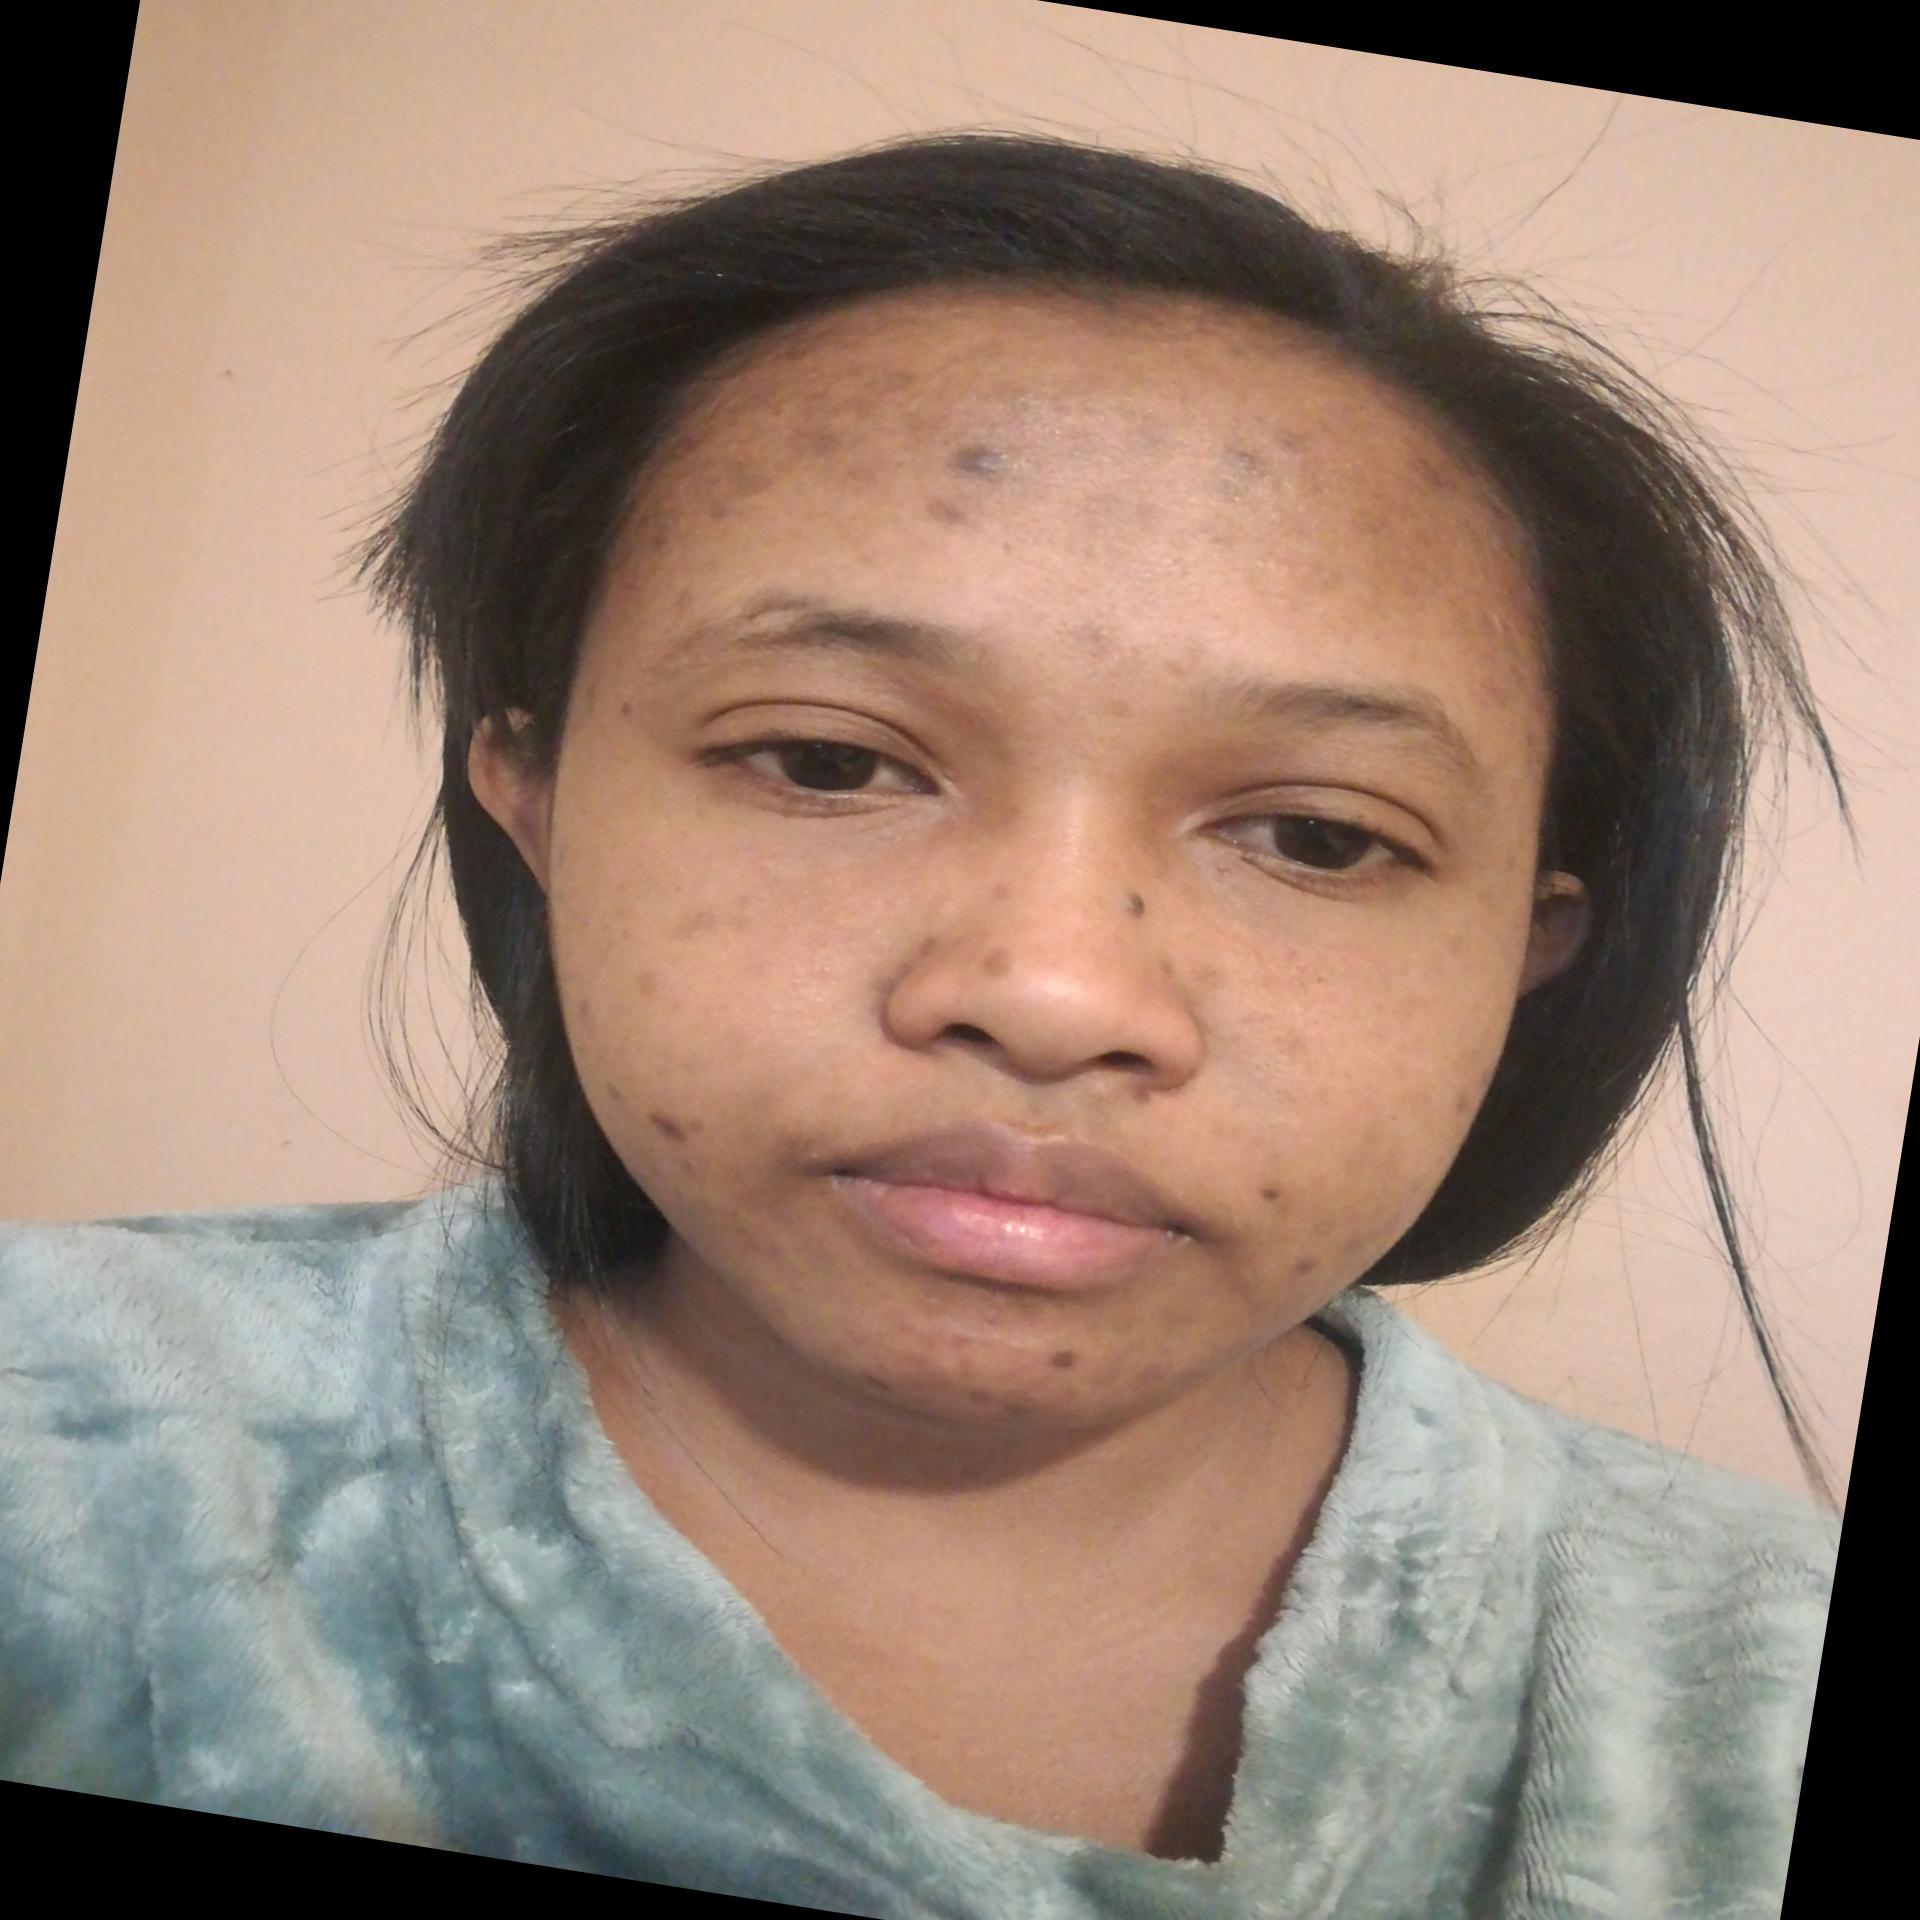Acne: (918, 422, 1044, 543), (682, 399, 788, 540), (791, 352, 907, 473), (1204, 411, 1313, 524), (1445, 596, 1537, 717), (1071, 473, 1183, 543), (1234, 542, 1350, 607), (663, 879, 760, 946), (990, 378, 1069, 436), (955, 1380, 1043, 1428), (1125, 1349, 1208, 1393), (1109, 406, 1180, 457), (647, 1101, 712, 1148), (1065, 608, 1124, 659), (893, 920, 948, 972), (971, 939, 1029, 988), (978, 1285, 1050, 1324), (665, 571, 709, 633), (1401, 447, 1454, 498), (622, 958, 670, 1007), (844, 1359, 900, 1398), (941, 1327, 983, 1378), (1097, 687, 1145, 730), (1185, 951, 1234, 992), (1118, 1078, 1164, 1115), (1254, 1176, 1299, 1213), (1296, 1210, 1349, 1241), (1278, 1247, 1322, 1284), (1043, 1340, 1083, 1378), (1435, 927, 1479, 962), (670, 1152, 712, 1183), (1155, 654, 1203, 682), (607, 693, 638, 733), (983, 870, 1020, 904), (645, 529, 682, 561), (1444, 1087, 1475, 1124), (571, 986, 600, 1027), (593, 1078, 629, 1108), (1148, 955, 1182, 986)
